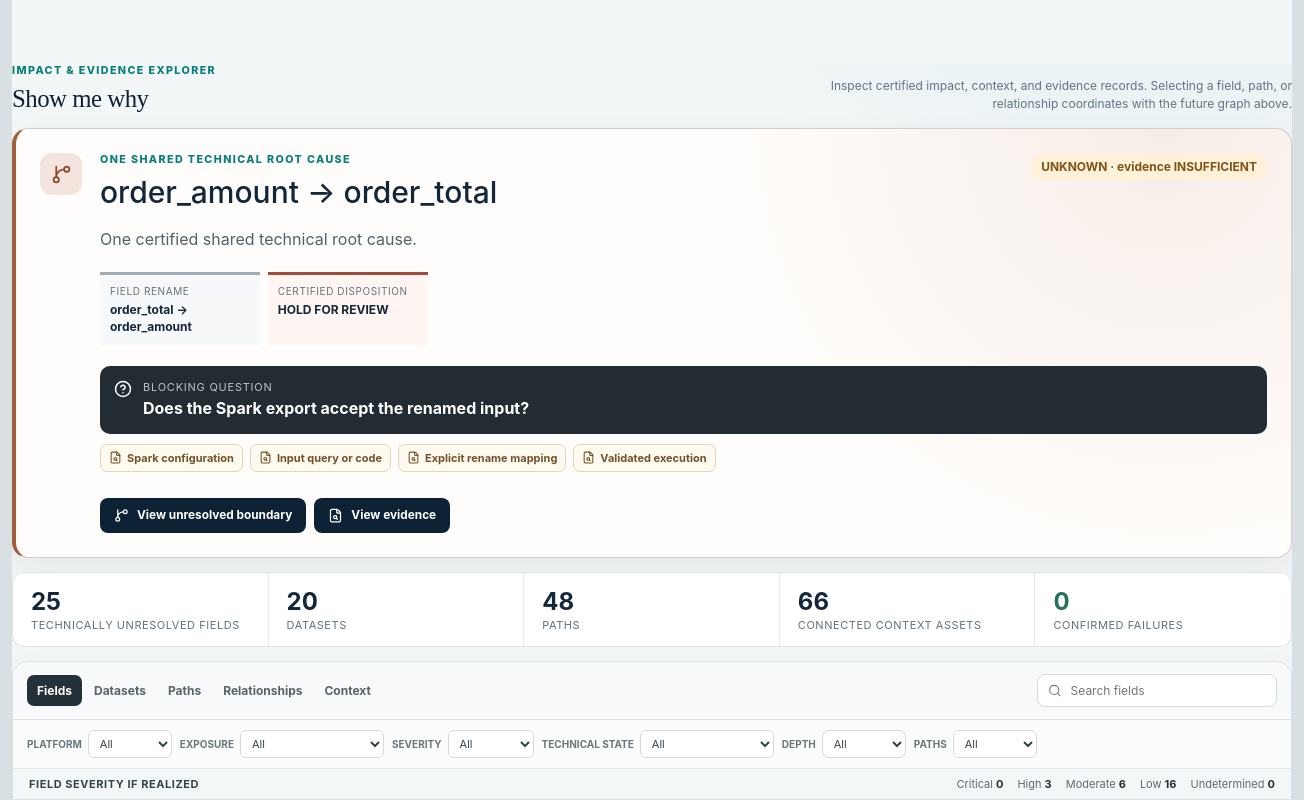
Test: ImpactEvidenceExplorer › groups context assets by governance, operational, and consumer
This screenshot has width=1304, height=800.
What coordinates should you click on to do the following:
click the tab "Context"
I would click on:
 (348, 690)
Its box is [314,675,381,706].
(page scrolled)
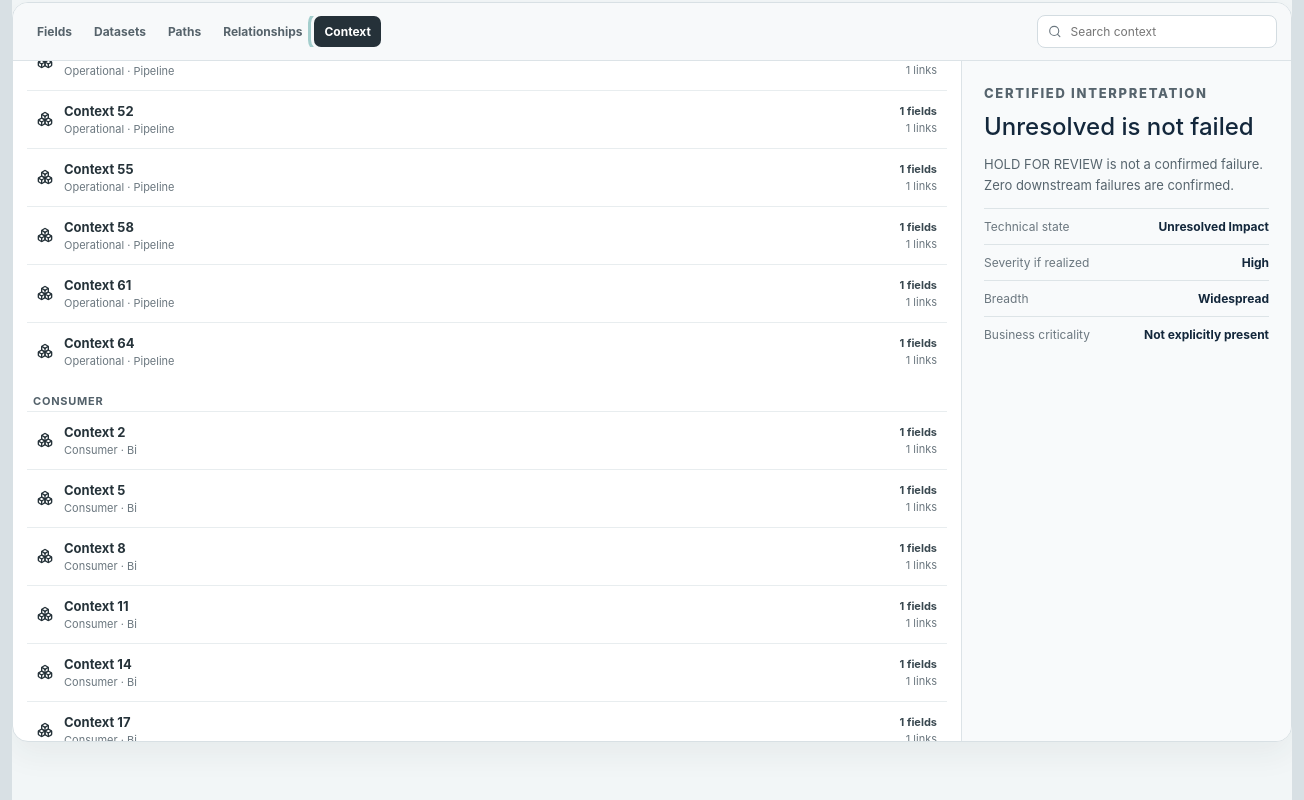
Check: the heading "Consumer" is shown, box [33,394,104,408]
